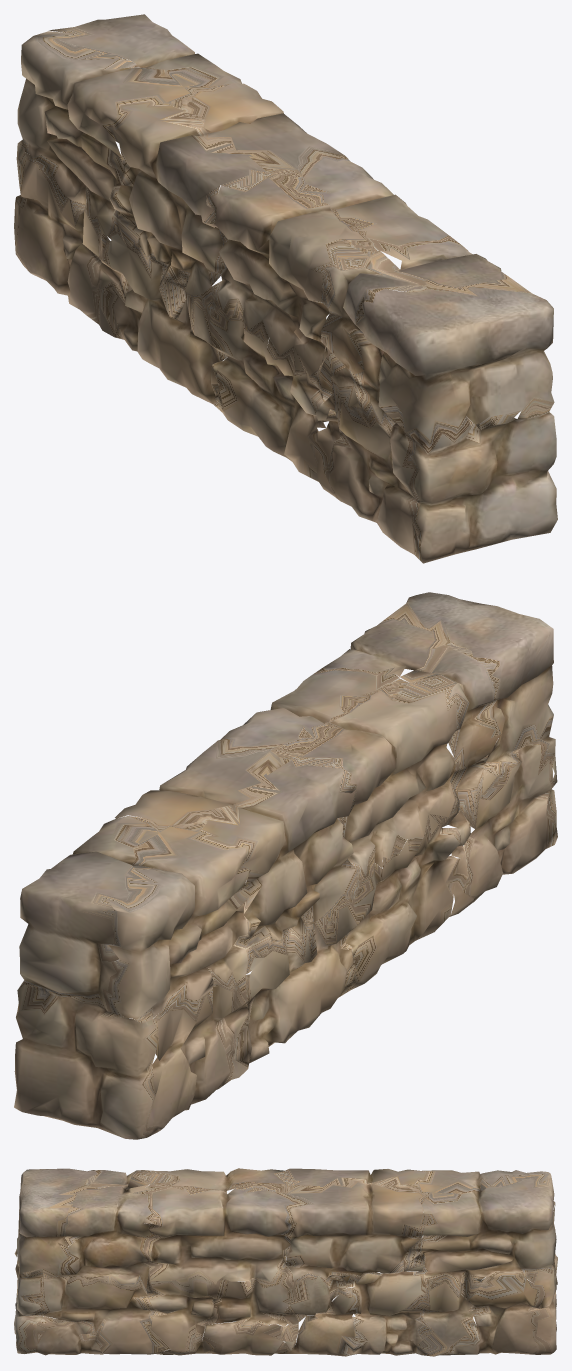
File: low-wall-perimeter.glb
The picture shows the model from 3 angles, top to bottom: view 1: azimuth 30°, elevation 25°; view 2: azimuth 150°, elevation 25°; view 3: azimuth 270°, elevation 25°; orthographic projection. The views are drawn at different scales.
Visible parts, largest first — view 1: tripo_node_e17d26ce-5ecd-46d4-9822-f97adb7ac5c1; view 2: tripo_node_e17d26ce-5ecd-46d4-9822-f97adb7ac5c1; view 3: tripo_node_e17d26ce-5ecd-46d4-9822-f97adb7ac5c1.
Part boxes in pixels (<box>): tripo_node_e17d26ce-5ecd-46d4-9822-f97adb7ac5c1: <box>14,14,557,563</box>; tripo_node_e17d26ce-5ecd-46d4-9822-f97adb7ac5c1: <box>14,592,557,1139</box>; tripo_node_e17d26ce-5ecd-46d4-9822-f97adb7ac5c1: <box>14,1168,557,1356</box>.
Bounding box in the file's own units: 0.2042 × 0.3 × 0.999.
Materials: 1 (1 with a texture image).
